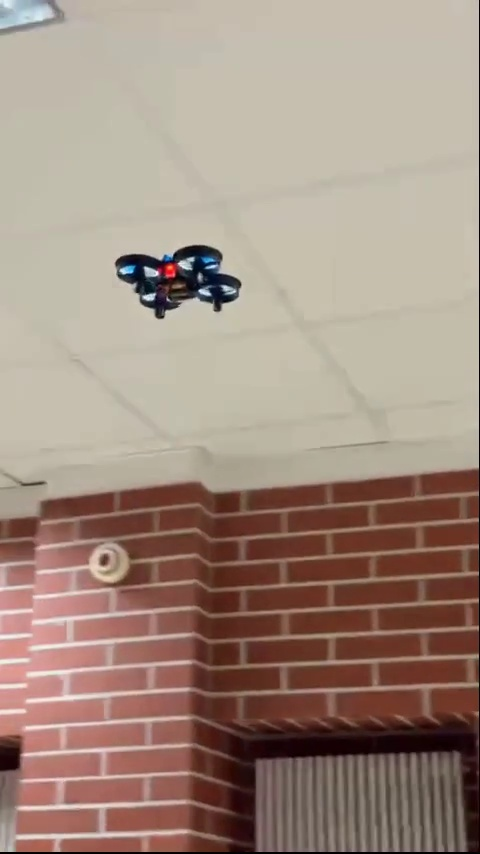drone: (116, 249, 240, 314)
